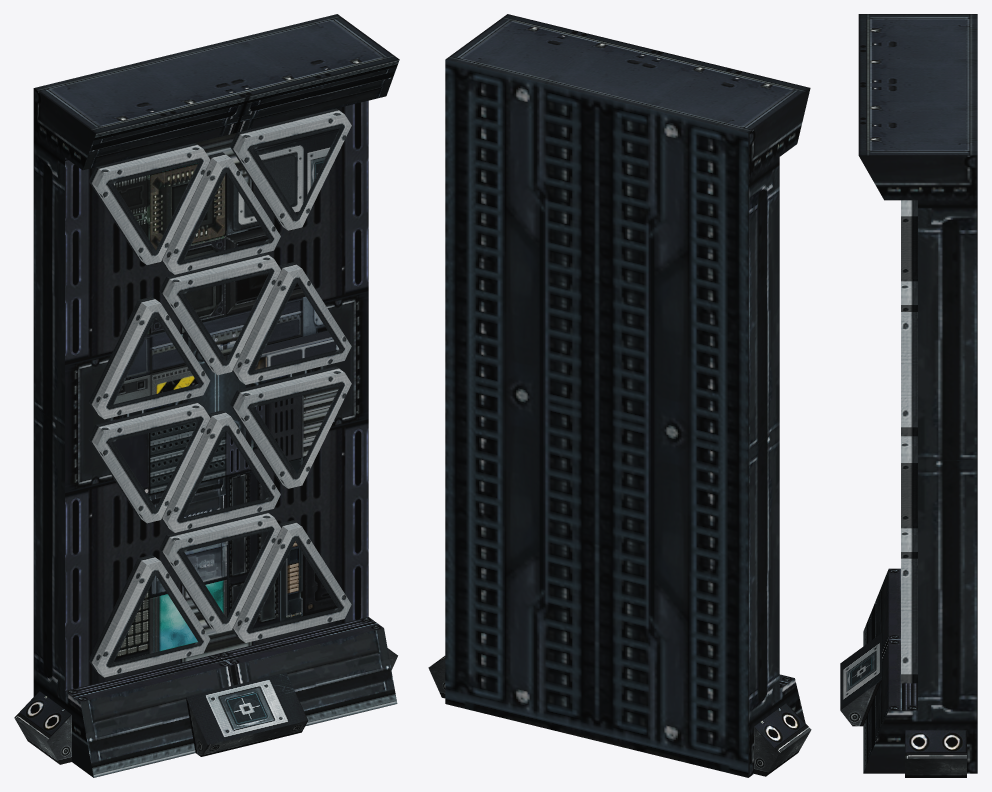
File: Battery_large_06.FBX
3 renders of one model, left to right at view 1: azimuth 30°, elevation 25°; view 2: azimuth 150°, elevation 25°; view 3: azimuth 270°, elevation 25°, orthographic. The views are drawn at different scales.
Parts seen in each view (by area): view 1: Battery_large_06, Liquid; view 2: Battery_large_06; view 3: Battery_large_06.
Boxes of the visible parts, x1,y1,x2,y2 form: Battery_large_06: [14, 14, 399, 777]; Liquid: [113, 128, 339, 662]; Battery_large_06: [428, 14, 811, 777]; Battery_large_06: [840, 14, 977, 777].
Size of the model in its own units: 201 by 354 by 71.3.
